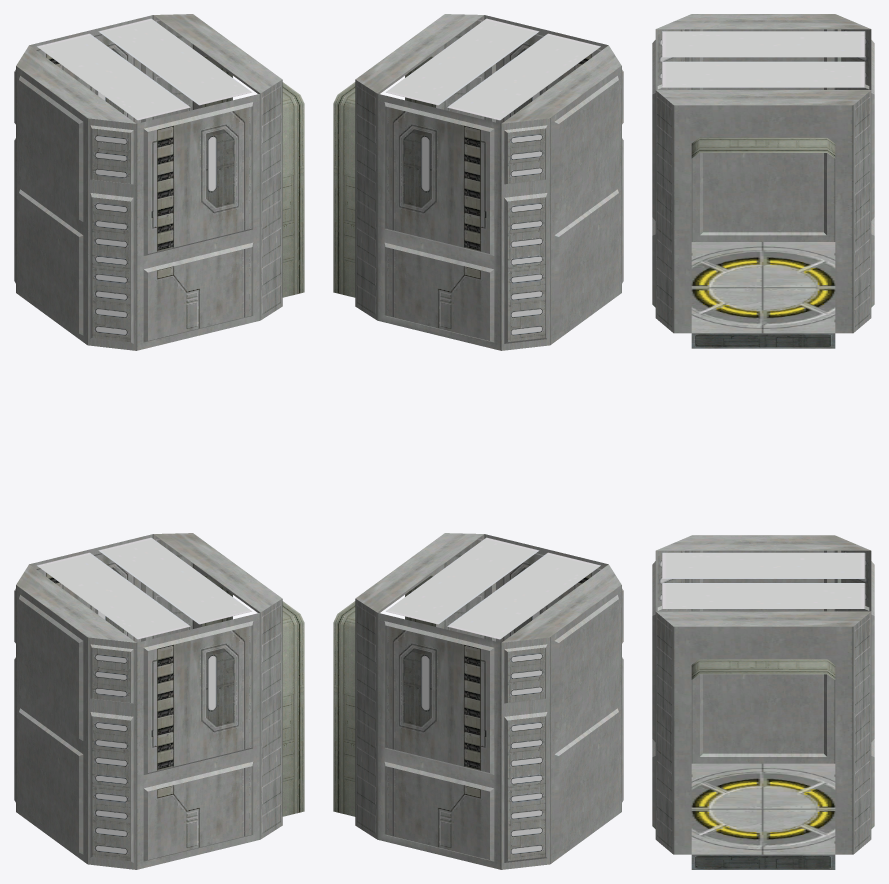
File: thm_tato_lucky_despot_r31_elevator04_mesh_r31.fbx
3 views of the same model, side by side, from view 1: azimuth 30°, elevation 25°; view 2: azimuth 150°, elevation 25°; view 3: azimuth 270°, elevation 25° (orthographic).
Parts seen in each view (by area): view 1: mesh_node; view 2: mesh_node; view 3: mesh_node.
Boxes of the visible parts, bbox=[...] form: mesh_node: bbox=[14, 14, 304, 869]; mesh_node: bbox=[333, 14, 623, 869]; mesh_node: bbox=[652, 14, 874, 869].
Size of the model in its own units: 3.54 by 11.5 by 3.09.
